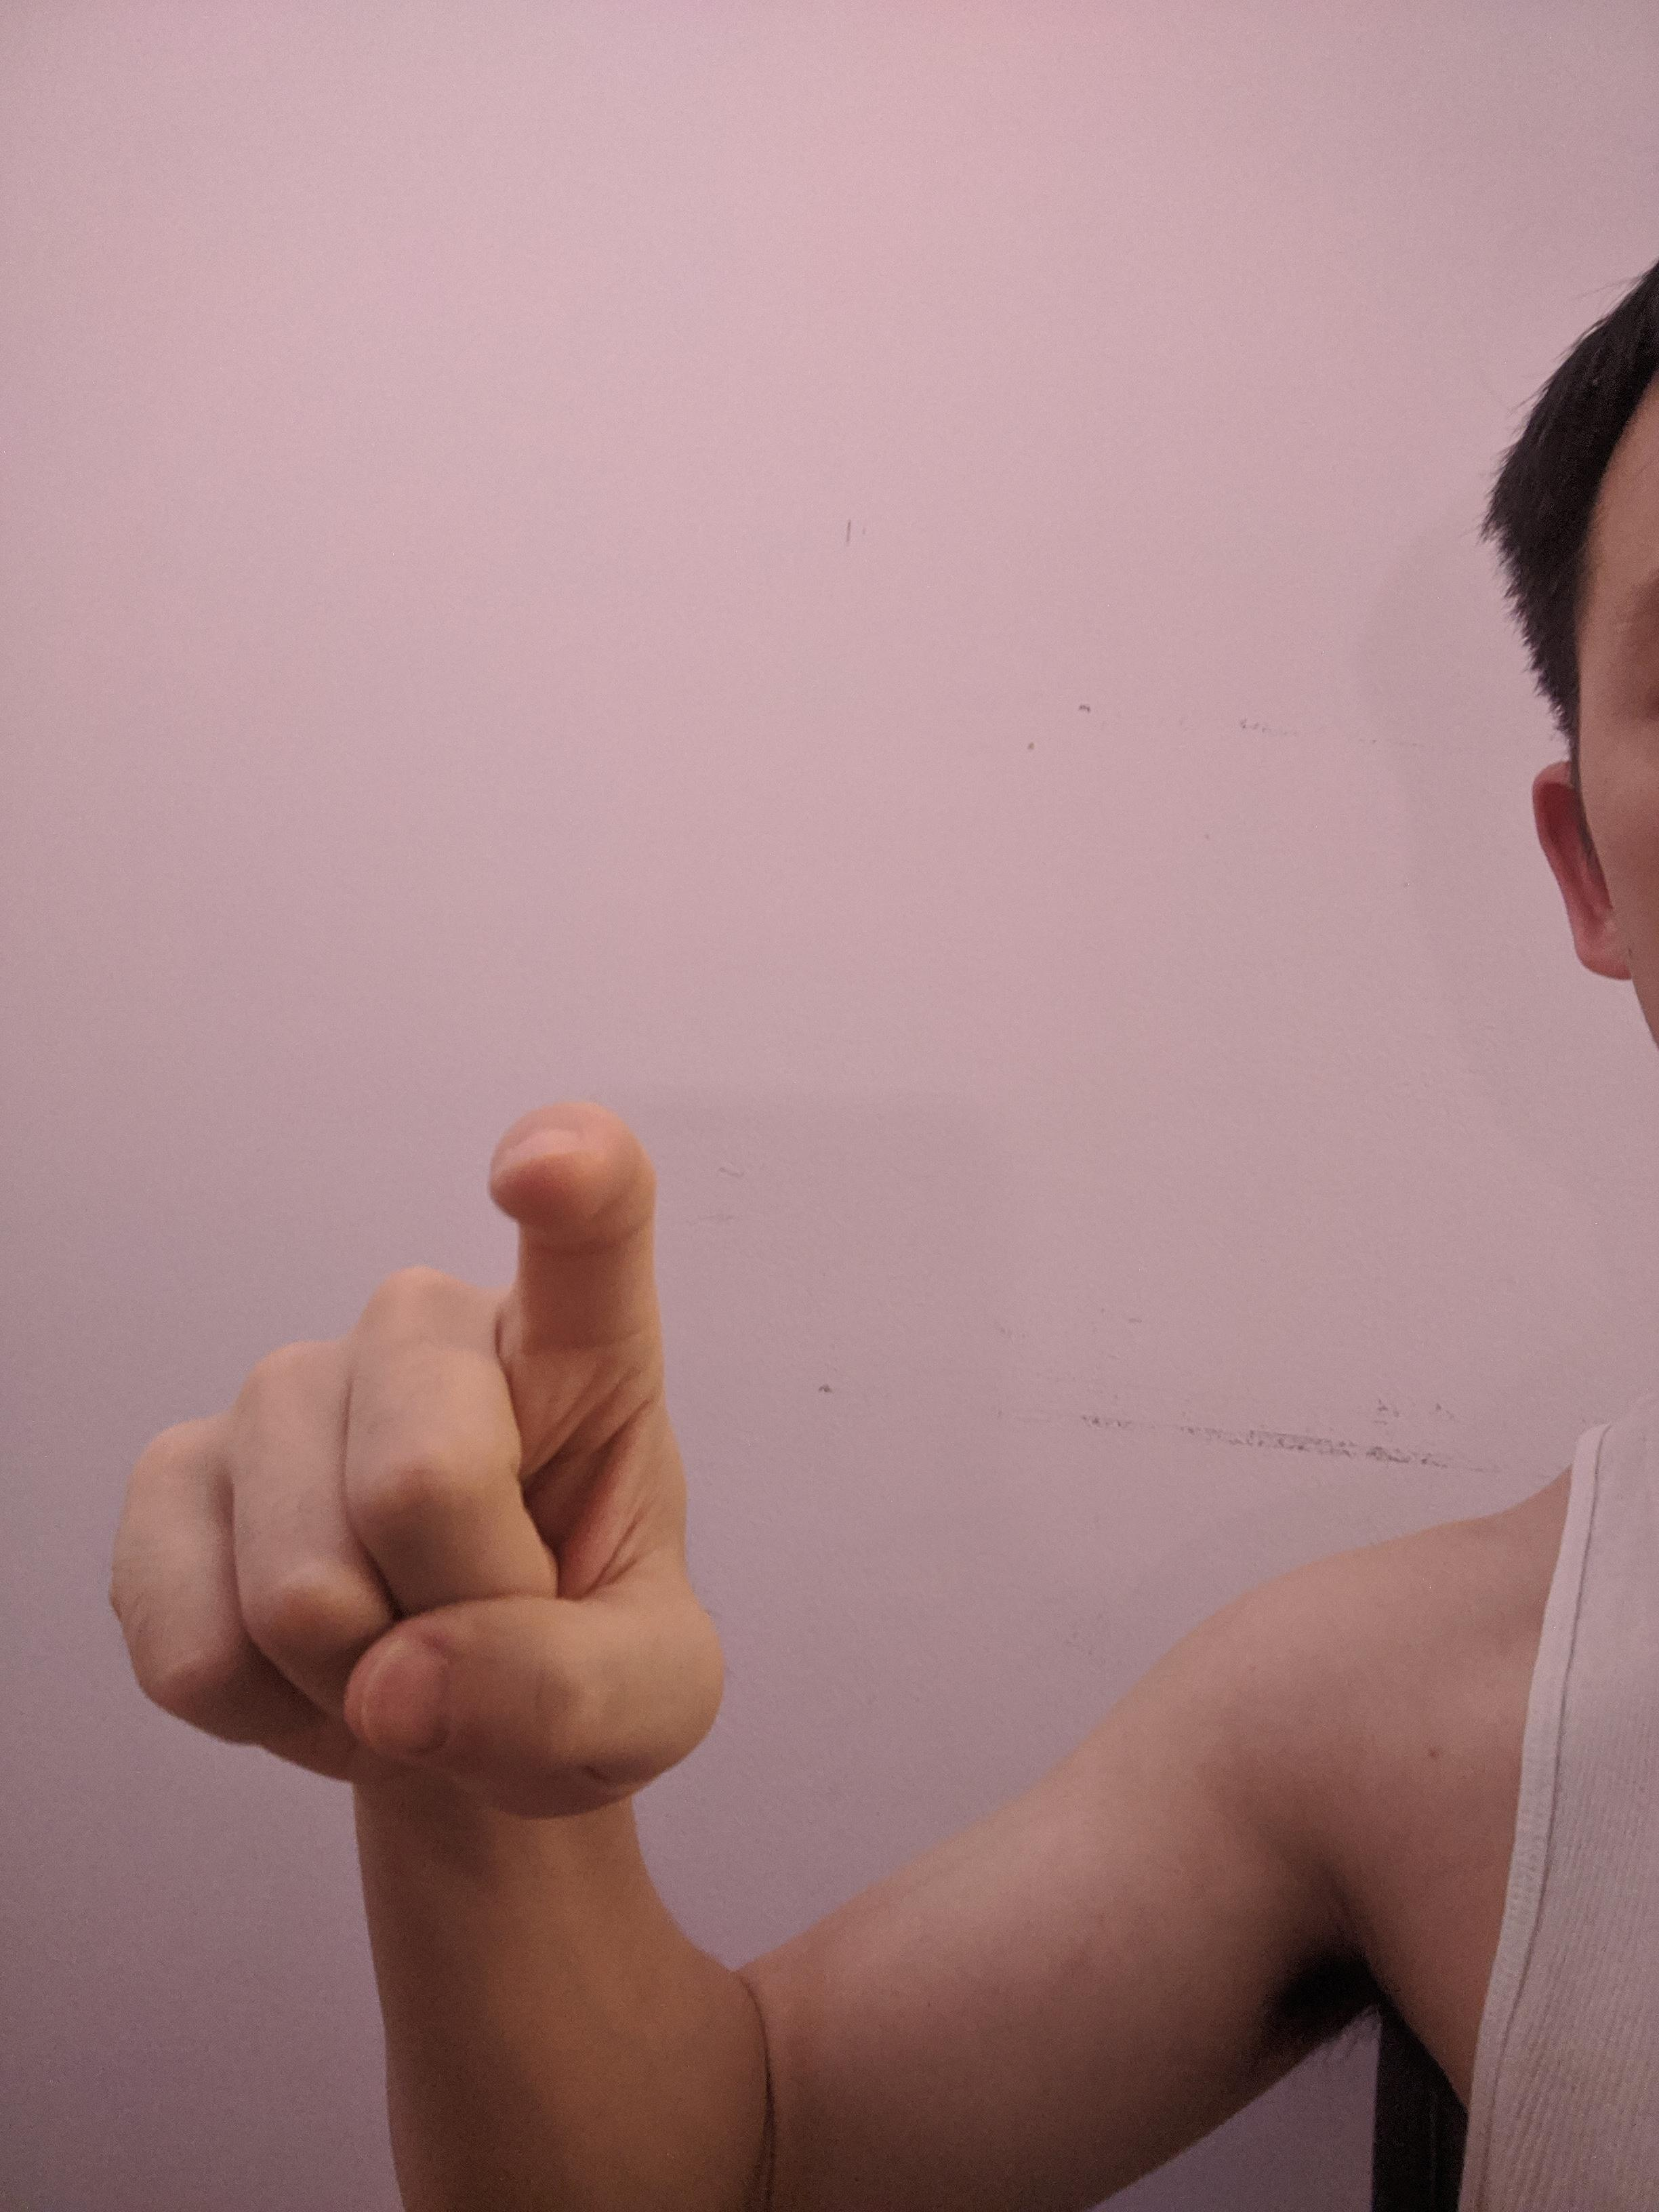Z: (96, 1083, 735, 1841)
